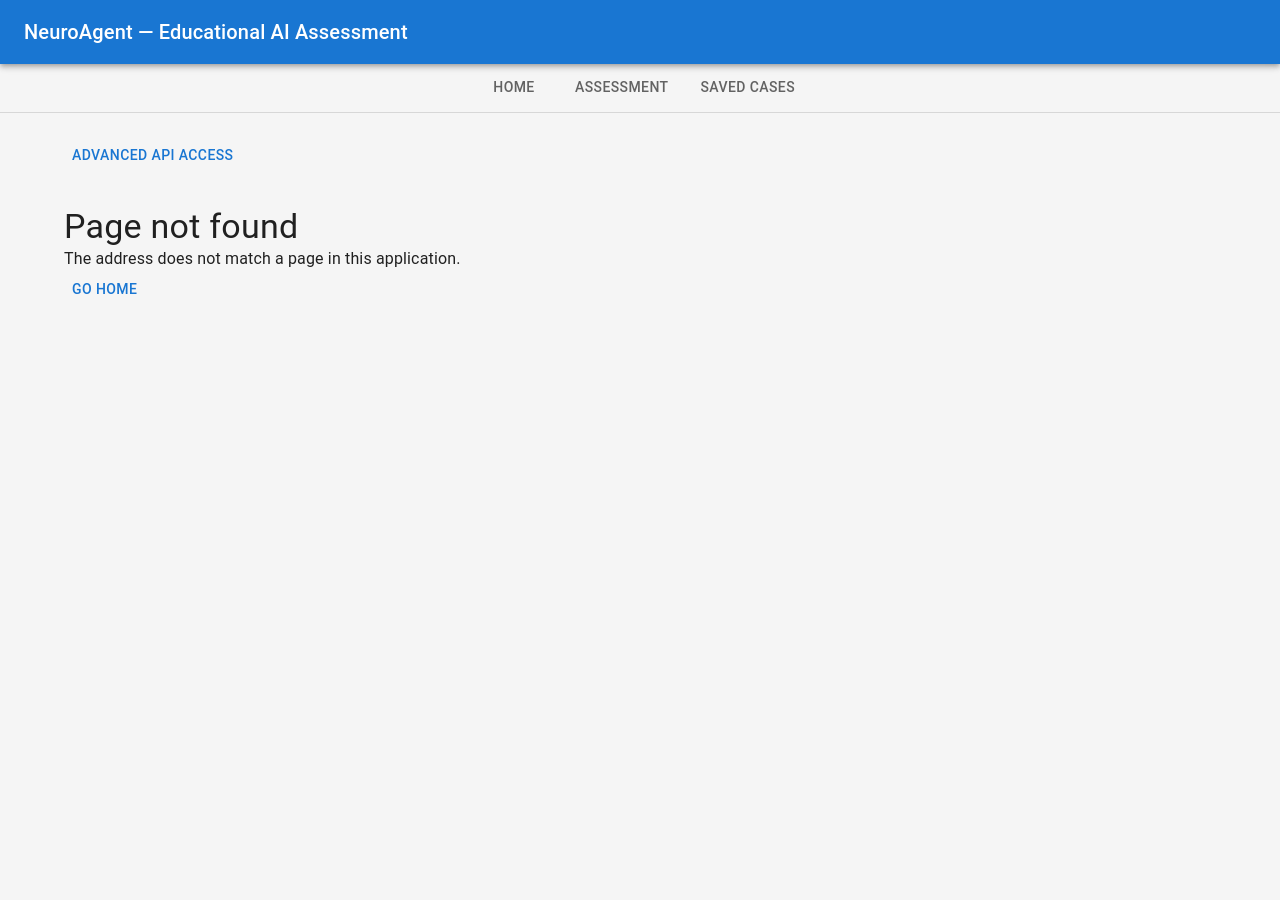
it: offers a home link for unknown routes
The image size is (1280, 900).
Expected: the heading "Page not found" is shown, [64,206,298,246]
Click the link "Go home" at (105, 290), box [72,282,137,298]
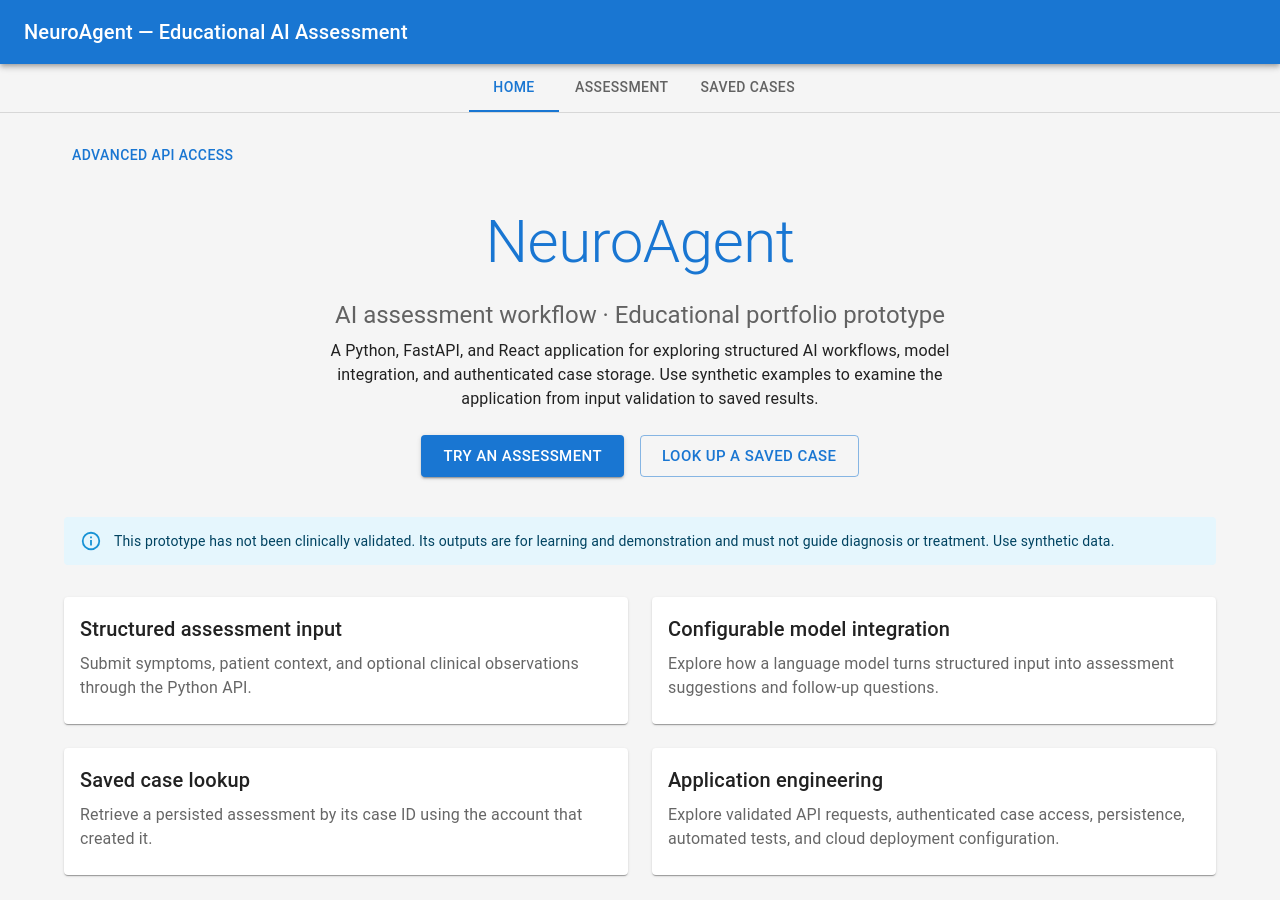
Now the button "Try an assessment" is shown, box [422,435,624,477]
